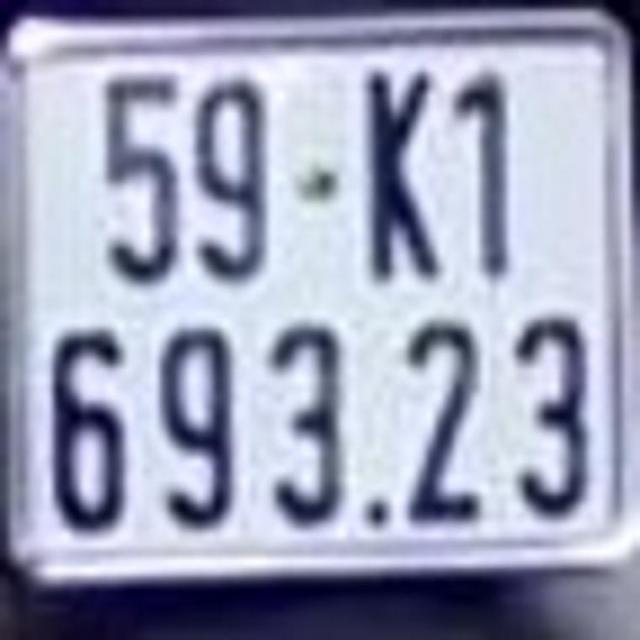1: (450, 60, 520, 282)
2: (402, 313, 489, 522)
3: (264, 314, 346, 524), (508, 316, 590, 516)
5: (96, 65, 188, 288)
6: (48, 324, 128, 528)
9: (193, 66, 274, 285), (156, 317, 237, 528)
K: (364, 57, 446, 282)
